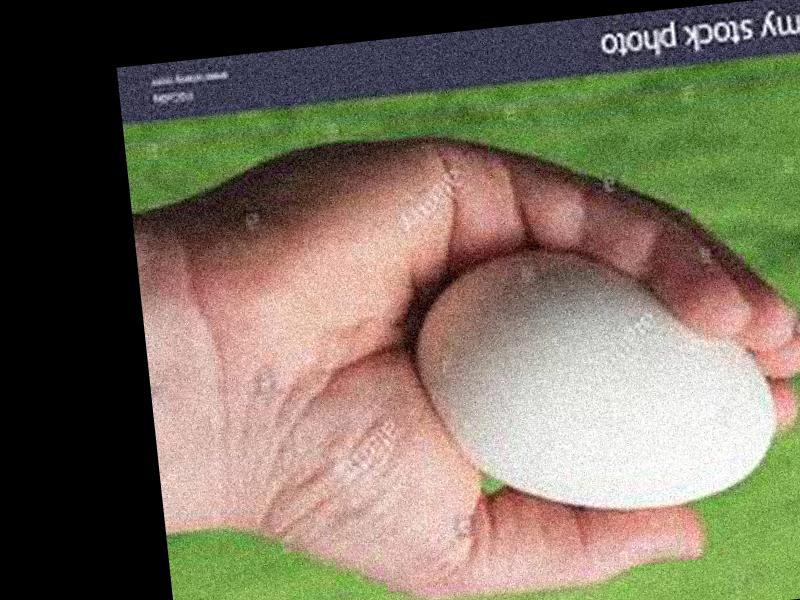Eggs: (400, 226, 781, 533)
